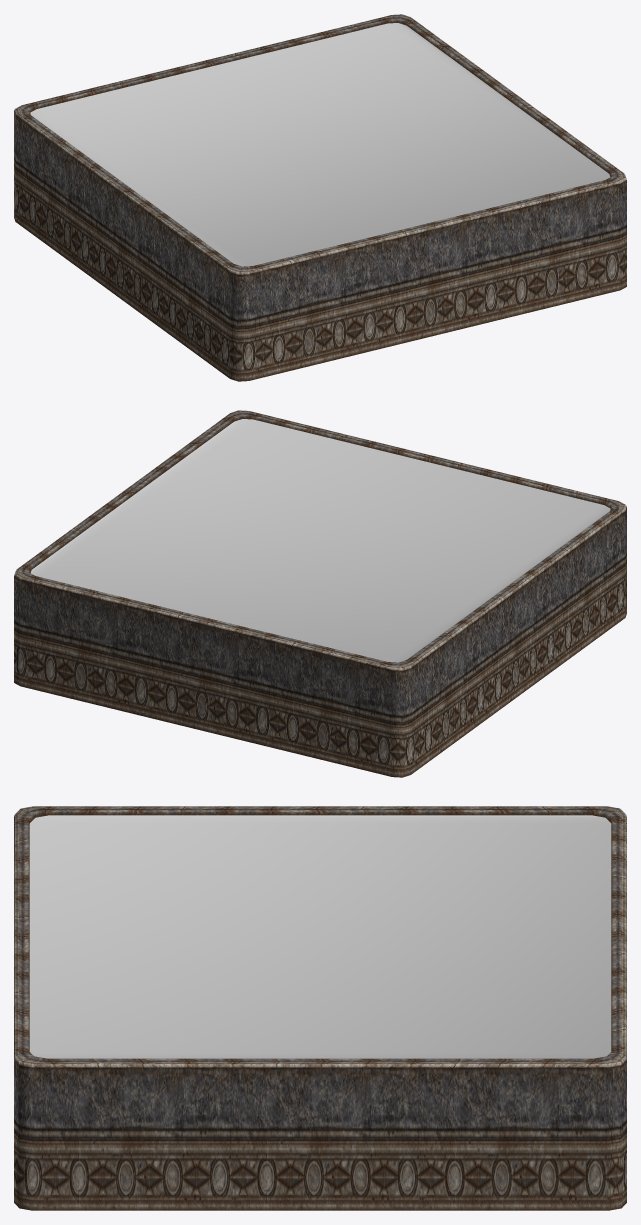
The model's file is prf_env_bld_BaseBuild_Small_xx.fbx.
The picture shows the model from 3 angles, top to bottom: view 1: azimuth 30°, elevation 25°; view 2: azimuth 150°, elevation 25°; view 3: azimuth 270°, elevation 25°; orthographic projection. The views are drawn at different scales.
Visible parts, largest first — view 1: prf_env_bld_BaseBuild_Small_xx; view 2: prf_env_bld_BaseBuild_Small_xx; view 3: prf_env_bld_BaseBuild_Small_xx.
Boxes of the visible parts, bbox=[...] form: prf_env_bld_BaseBuild_Small_xx: bbox=[14, 14, 626, 381]; prf_env_bld_BaseBuild_Small_xx: bbox=[14, 410, 626, 777]; prf_env_bld_BaseBuild_Small_xx: bbox=[14, 806, 626, 1210].
Size of the model in its own units: 8 by 2.1 by 8.
